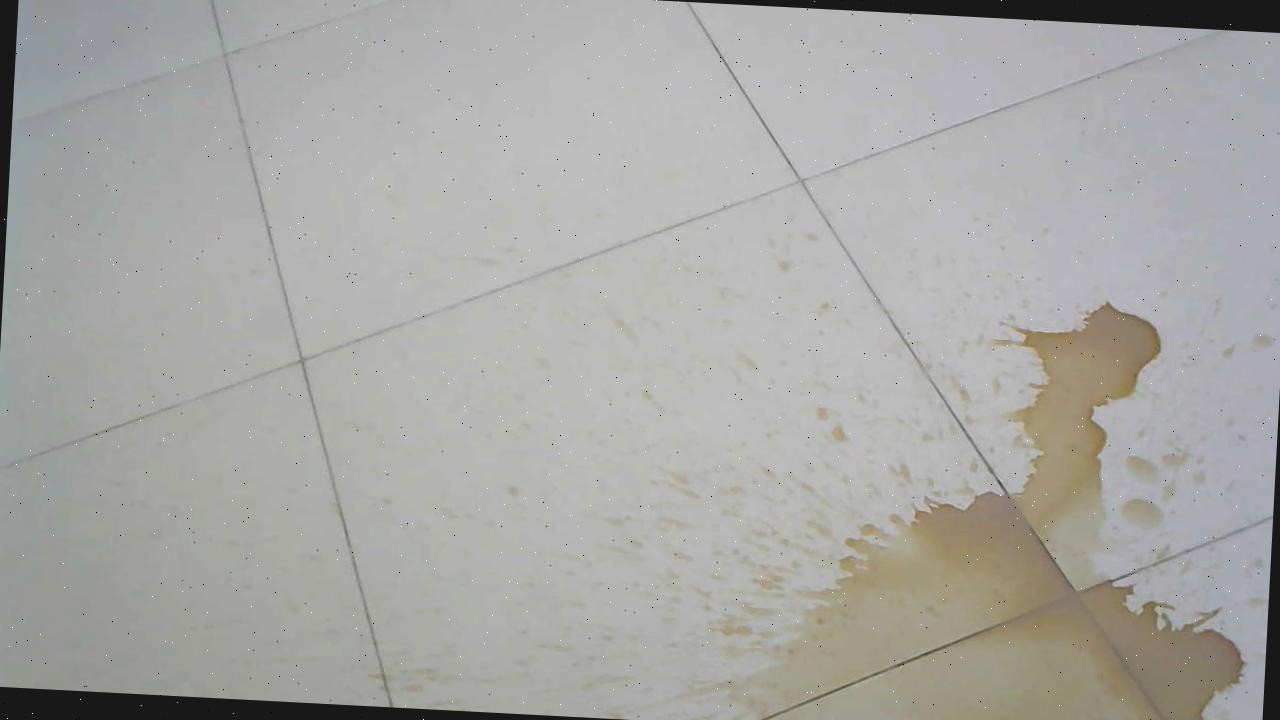dirty_floor: (639, 269, 1270, 720)
